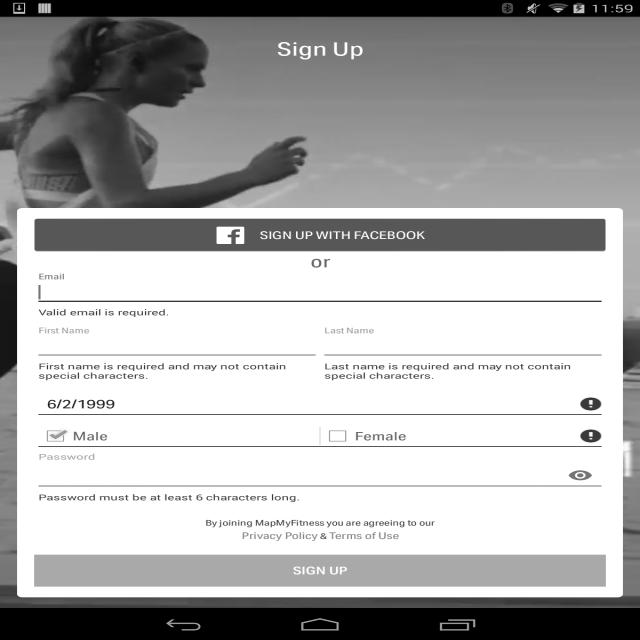Button: (34, 219, 606, 252), (34, 554, 606, 586)
CheckBox: (38, 427, 320, 445), (320, 427, 602, 445)
EditText: (34, 459, 606, 492), (34, 278, 606, 307), (34, 332, 320, 361), (320, 332, 606, 361)
ImageButton: (555, 459, 606, 492)
TextView: (17, 17, 623, 208), (34, 510, 606, 544), (34, 388, 606, 421), (34, 252, 606, 271), (38, 361, 316, 381), (324, 361, 602, 381), (38, 492, 300, 502), (39, 306, 170, 318)
